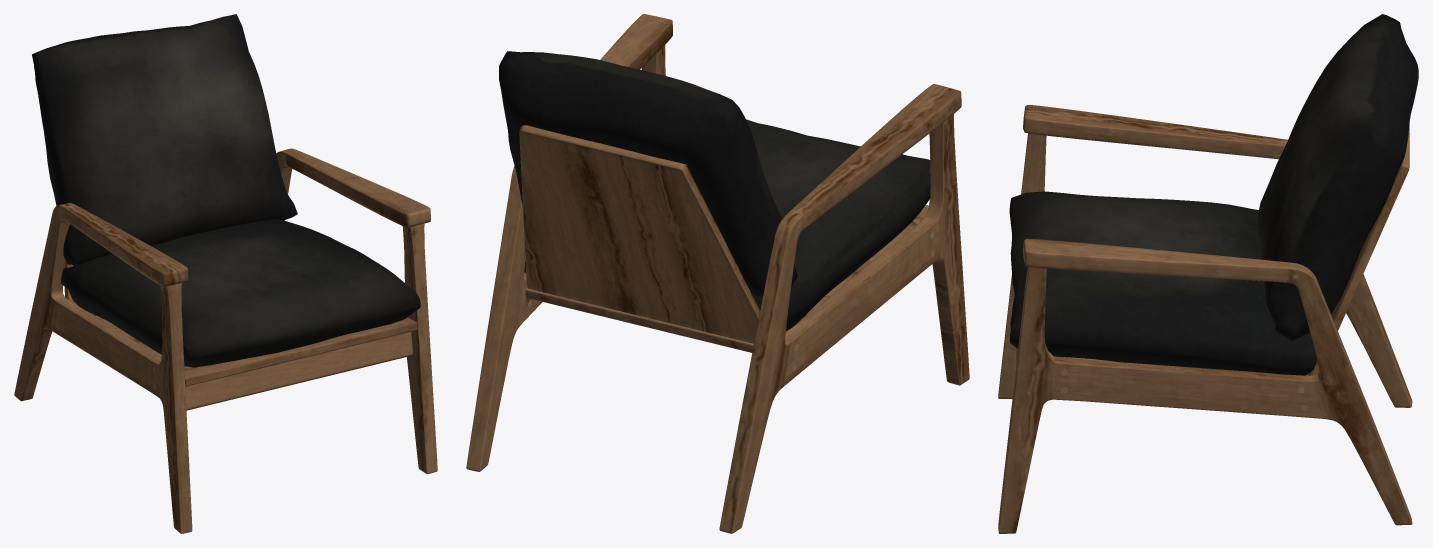
File: arm_chair.glb
3 views of the same model, side by side, from view 1: azimuth 30°, elevation 25°; view 2: azimuth 150°, elevation 25°; view 3: azimuth 270°, elevation 25° (orthographic). The views are drawn at different scales.
Visible parts, largest first — view 1: modern_arm_chair_01; view 2: modern_arm_chair_01; view 3: modern_arm_chair_01.
Boxes of the visible parts, x1=… form: modern_arm_chair_01: x1=14, y1=14, x2=437, y2=533; modern_arm_chair_01: x1=466, y1=14, x2=969, y2=533; modern_arm_chair_01: x1=998, y1=14, x2=1418, y2=533.
Bounding box in the file's own units: 0.8203 × 1.02 × 0.9865.
Materials: 2 (2 with a texture image).
